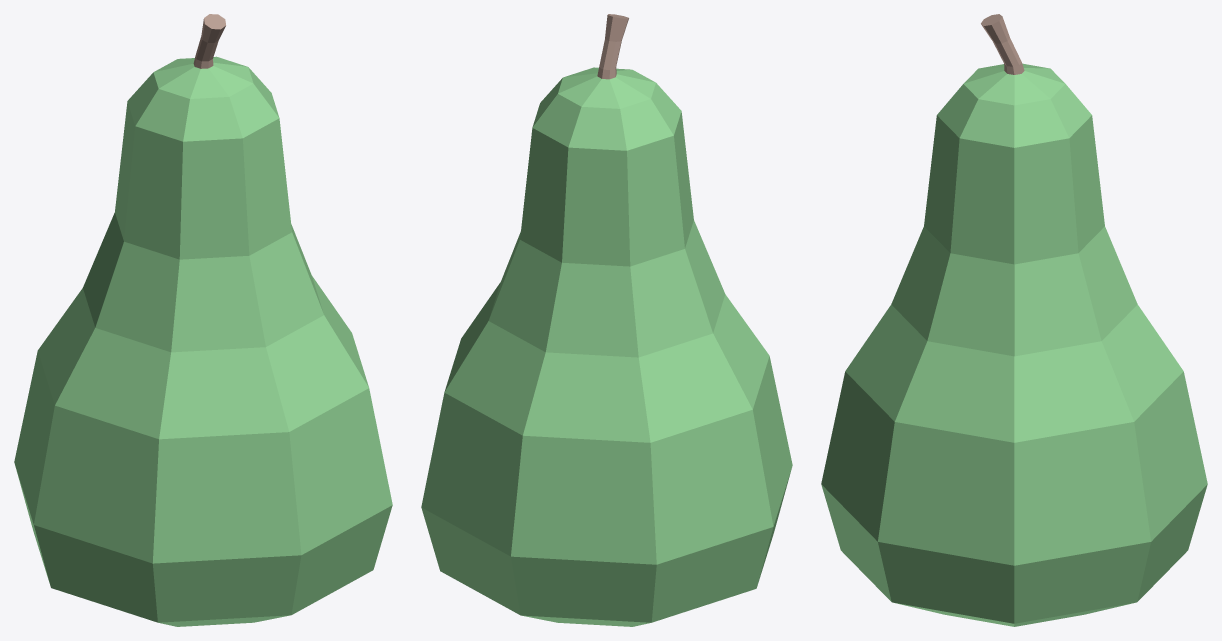
File: pear.glb
The picture shows the model from 3 angles, left to right: view 1: azimuth 30°, elevation 25°; view 2: azimuth 150°, elevation 25°; view 3: azimuth 270°, elevation 25°; orthographic projection.
Parts seen in each view (by area): view 1: node-0; view 2: node-0; view 3: node-0.
Part boxes in pixels (x1=…): node-0: x1=14, y1=14, x2=392, y2=626; node-0: x1=421, y1=14, x2=792, y2=626; node-0: x1=821, y1=14, x2=1207, y2=626.
Bounding box in the file's own units: 7.69 × 12.64 × 7.69.
